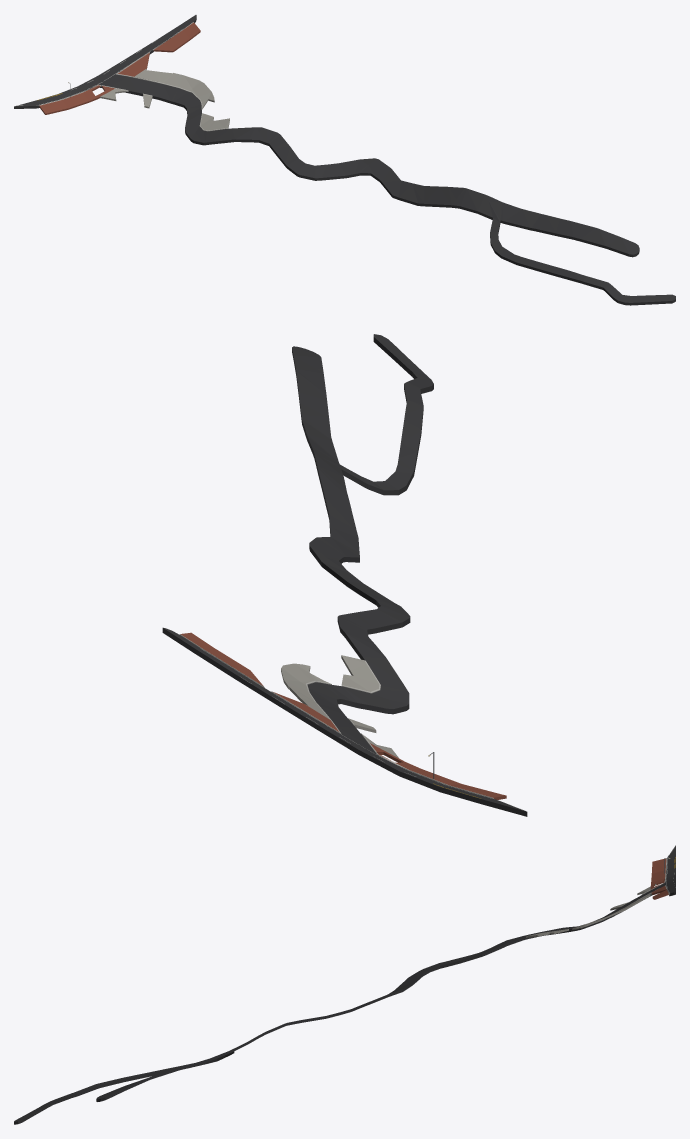
Rendered from 16-54706-29735.316fdfc5.glb.
3 views of the same model, one above another, from view 1: azimuth 30°, elevation 25°; view 2: azimuth 150°, elevation 25°; view 3: azimuth 270°, elevation 25° (orthographic). The views are drawn at different scales.
Size of the model in its own units: 181 by 56.36 by 249.
